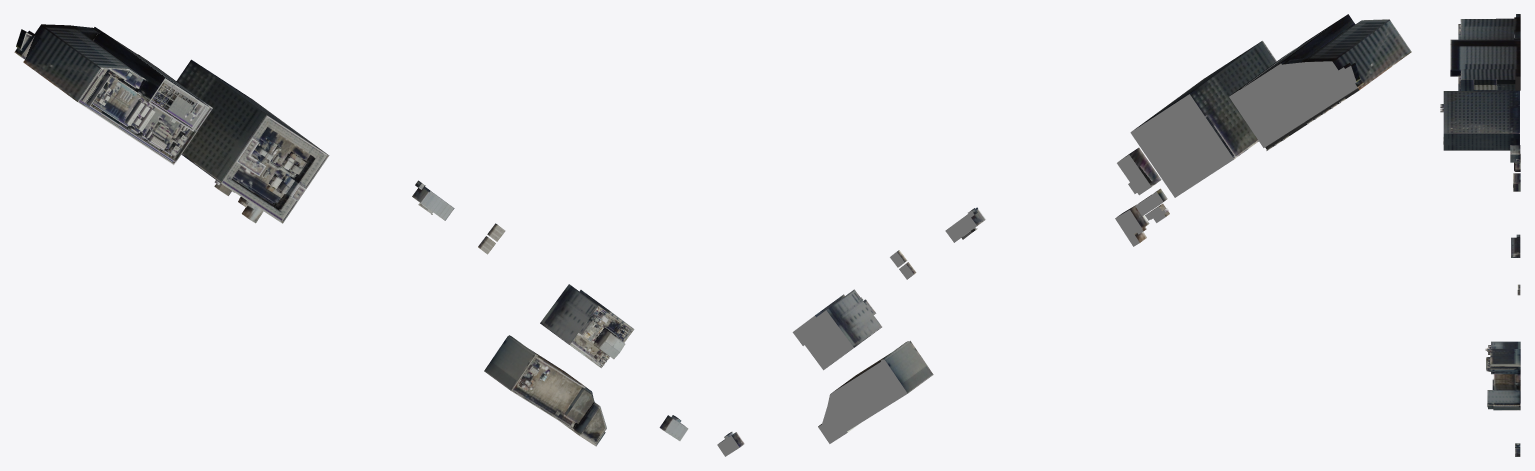
3 views of the same model, side by side, from view 1: azimuth 30°, elevation 25°; view 2: azimuth 150°, elevation 25°; view 3: azimuth 270°, elevation 25° (orthographic). The views are drawn at different scales.
Visible parts, largest first — view 1: 533936911_bldg_6677; view 2: 533936911_bldg_6677; view 3: 533936911_bldg_6677.
Part boxes in pixels (x1,y1,x2,y2): 533936911_bldg_6677: (14,24,688,446); 533936911_bldg_6677: (717,14,1411,456); 533936911_bldg_6677: (1440,14,1520,456).
Size of the model in its own units: 384 by 312 by 80.2.
13 materials, 12 textured.
